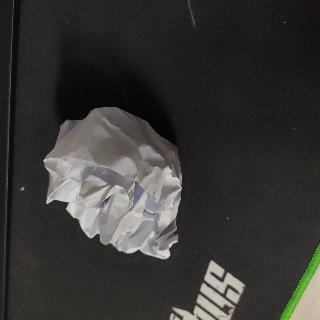8/可回收垃圾/纸: (41, 105, 183, 260)
